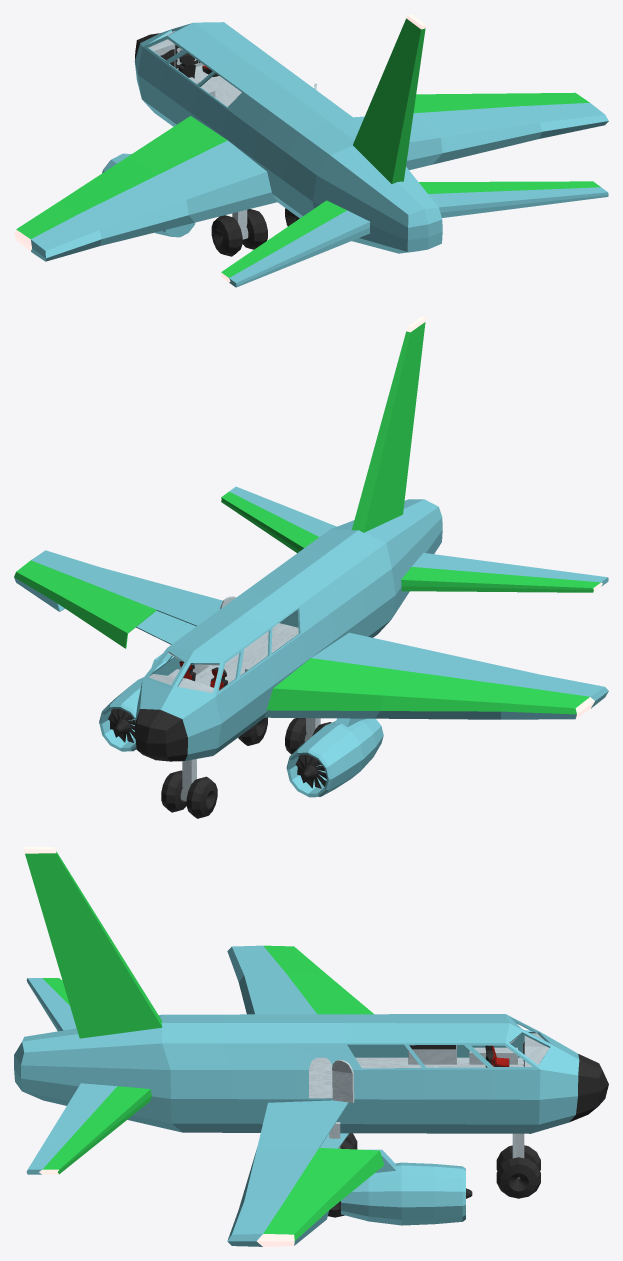
The picture shows the model from 3 angles, top to bottom: view 1: azimuth 30°, elevation 25°; view 2: azimuth 150°, elevation 25°; view 3: azimuth 270°, elevation 25°; orthographic projection. The views are drawn at different scales.
Visible parts, largest first — view 1: Tail, BackAftCorePanel.L, SidePanel7Tail.L, Cube.080, BackAftMidPanel.L, TailBackPanel.L, TailBackPanel.R, ForwardAftCorePanel.L, SidePanel6.L, SidePanel5.L, ForwardAftMidPanel.L, TailForwardPanel.L (+34 smaller); view 2: Tail, ForwardAftCorePanel.L, Turbine.L, ForwardAftMidPanel.L, TailForwardPanel.L, Cube.077, BackAftCorePanel.L, SidePanel7Tail.L, SidePanel6.L, Cube.095, BackAftMidPanel.L, TailBackPanel.L (+39 smaller); view 3: Tail, SidePanel7Tail.R, Turbine.R, SidePanel6.R, SidePanel5.R, SideWindow2.R, SideWindow3.R, Cube.095, Cube.077, Cube.081, SideWindow1.R, TailForwardPanel.R (+33 smaller).
Part boxes in pixels (x1=…): Tail: x1=353, y1=18, x2=425, y2=183; BackAftCorePanel.L: x1=156, y1=140, x2=271, y2=214; SidePanel7Tail.L: x1=313, y1=155, x2=408, y2=251; Cube.080: x1=413, y1=106, x2=542, y2=152; BackAftMidPanel.L: x1=80, y1=175, x2=188, y2=238; TailBackPanel.L: x1=229, y1=210, x2=370, y2=287; TailBackPanel.R: x1=428, y1=187, x2=608, y2=217; ForwardAftCorePanel.L: x1=128, y1=116, x2=227, y2=175; SidePanel6.L: x1=283, y1=134, x2=330, y2=215; SidePanel5.L: x1=253, y1=113, x2=300, y2=203; ForwardAftMidPanel.L: x1=60, y1=157, x2=155, y2=213; TailForwardPanel.L: x1=221, y1=200, x2=346, y2=277; Tail: x1=352, y1=322, x2=425, y2=532; ForwardAftCorePanel.L: x1=266, y1=658, x2=410, y2=710; Turbine.L: x1=286, y1=718, x2=383, y2=797; ForwardAftMidPanel.L: x1=380, y1=672, x2=519, y2=711; TailForwardPanel.L: x1=401, y1=567, x2=600, y2=592; Cube.077: x1=57, y1=579, x2=156, y2=648; BackAftCorePanel.L: x1=311, y1=632, x2=440, y2=671; SidePanel7Tail.L: x1=386, y1=507, x2=442, y2=618; SidePanel6.L: x1=357, y1=543, x2=395, y2=636; Cube.095: x1=149, y1=623, x2=298, y2=692; BackAftMidPanel.L: x1=412, y1=653, x2=538, y2=686; TailBackPanel.L: x1=412, y1=553, x2=608, y2=586; Tail: x1=25, y1=851, x2=162, y2=1038; SidePanel7Tail.R: x1=21, y1=1043, x2=171, y2=1123; Turbine.R: x1=341, y1=1162, x2=465, y2=1225; SidePanel6.R: x1=162, y1=1043, x2=232, y2=1123; SidePanel5.R: x1=223, y1=1043, x2=296, y2=1123; SideWindow2.R: x1=405, y1=1043, x2=492, y2=1124; SideWindow3.R: x1=344, y1=1043, x2=425, y2=1124; Cube.095: x1=309, y1=1033, x2=549, y2=1098; Cube.077: x1=286, y1=1148, x2=384, y2=1209; Cube.081: x1=254, y1=1100, x2=348, y2=1156; SideWindow1.R: x1=465, y1=1043, x2=540, y2=1124; TailForwardPanel.R: x1=42, y1=1086, x2=151, y2=1174.
Size of what is drawn, in the model's own units: 60.03 by 33.19 by 52.02.
Materials: 9 (3 with a texture image).
